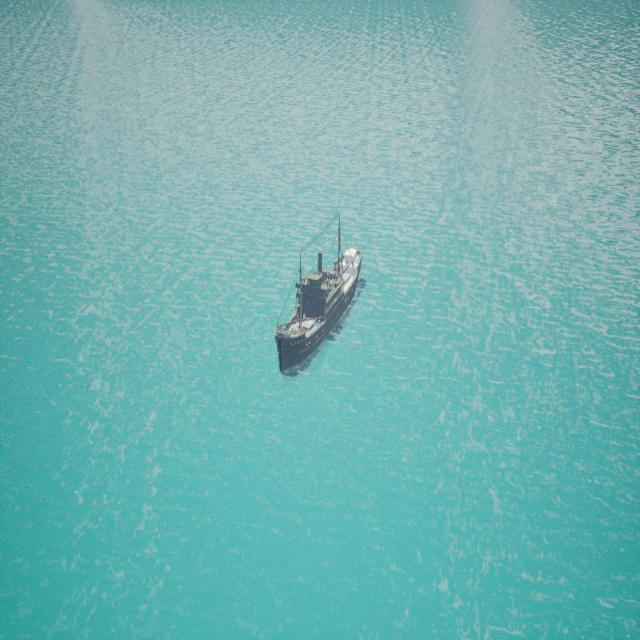fishing ship: (274, 249, 366, 379)
